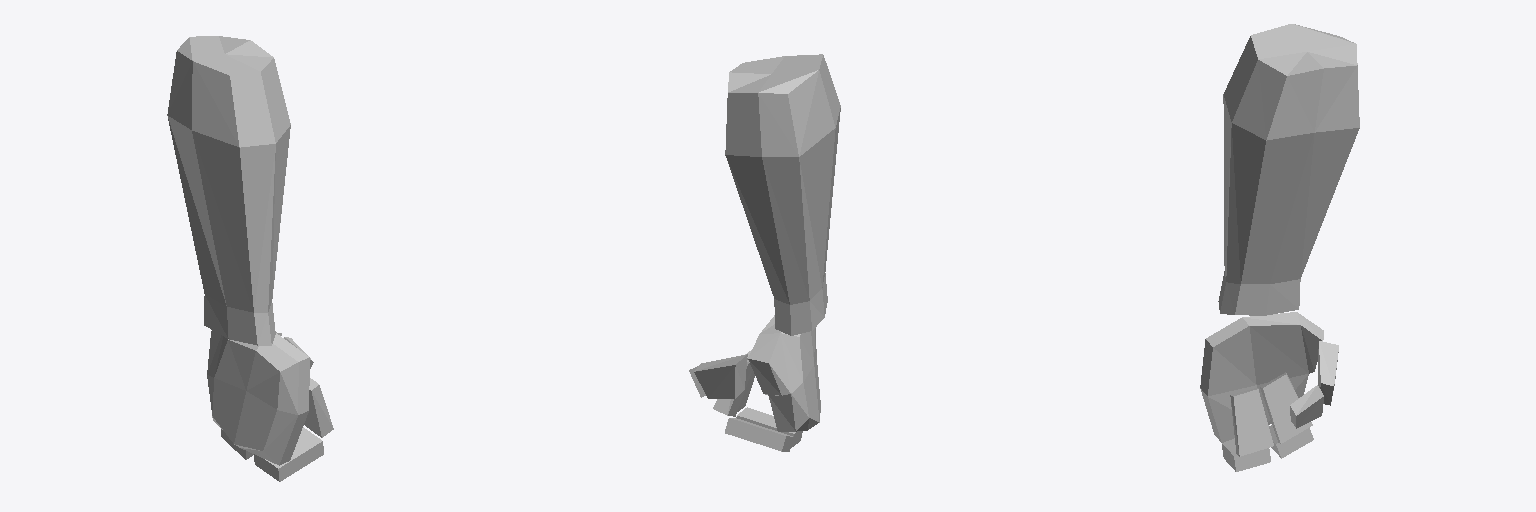
The model's file is ArmLHandN.obj.
The picture shows the model from 3 angles: view 1: azimuth 30°, elevation 25°; view 2: azimuth 150°, elevation 25°; view 3: azimuth 270°, elevation 25°; orthographic projection.
Parts seen in each view (by area): view 1: ArmL_Cube.004, HandL_Cube.001; view 2: ArmL_Cube.004, HandL_Cube.001; view 3: ArmL_Cube.004, HandL_Cube.001.
Part boxes in pixels (x1,y1,x2,y2): ArmL_Cube.004: (167, 36, 290, 345); HandL_Cube.001: (207, 330, 333, 481); ArmL_Cube.004: (725, 54, 840, 335); HandL_Cube.001: (689, 315, 820, 451); ArmL_Cube.004: (1218, 24, 1359, 315); HandL_Cube.001: (1200, 312, 1338, 471).
Size of the model in its own units: 0.1192 by 0.3533 by 0.125.